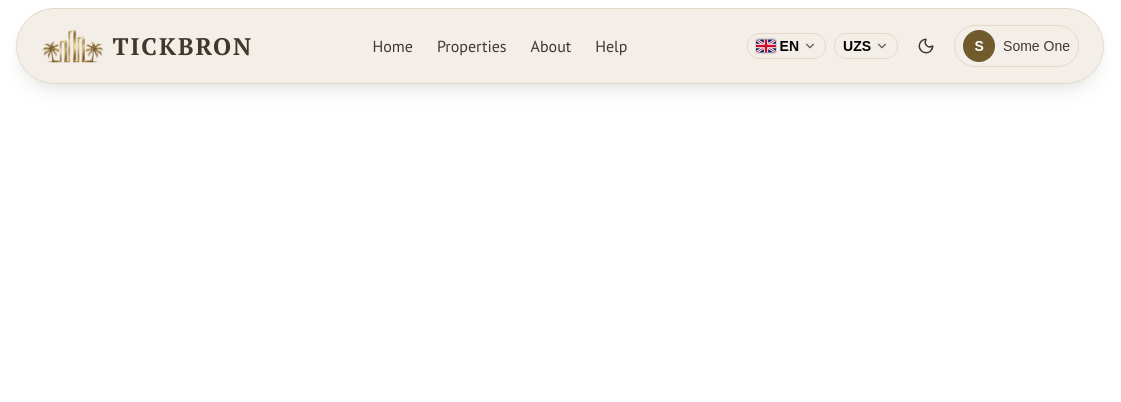
Test: Header › shows both dashboards to staff
Click the button "S Some One" at (1016, 46), box [954, 25, 1079, 67]
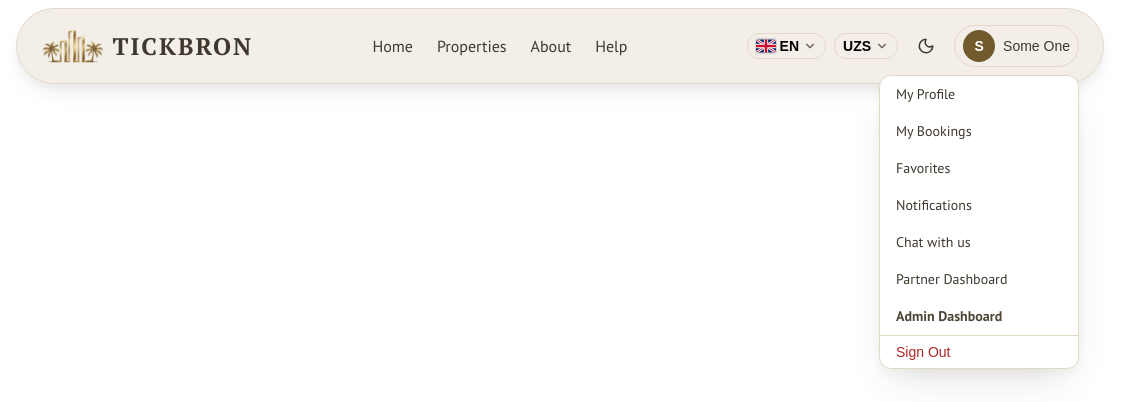
Check: the link "Partner Dashboard" is shown, box [896, 270, 1007, 288]
Check: the link "Admin Dashboard" is shown, box [896, 307, 1002, 325]
